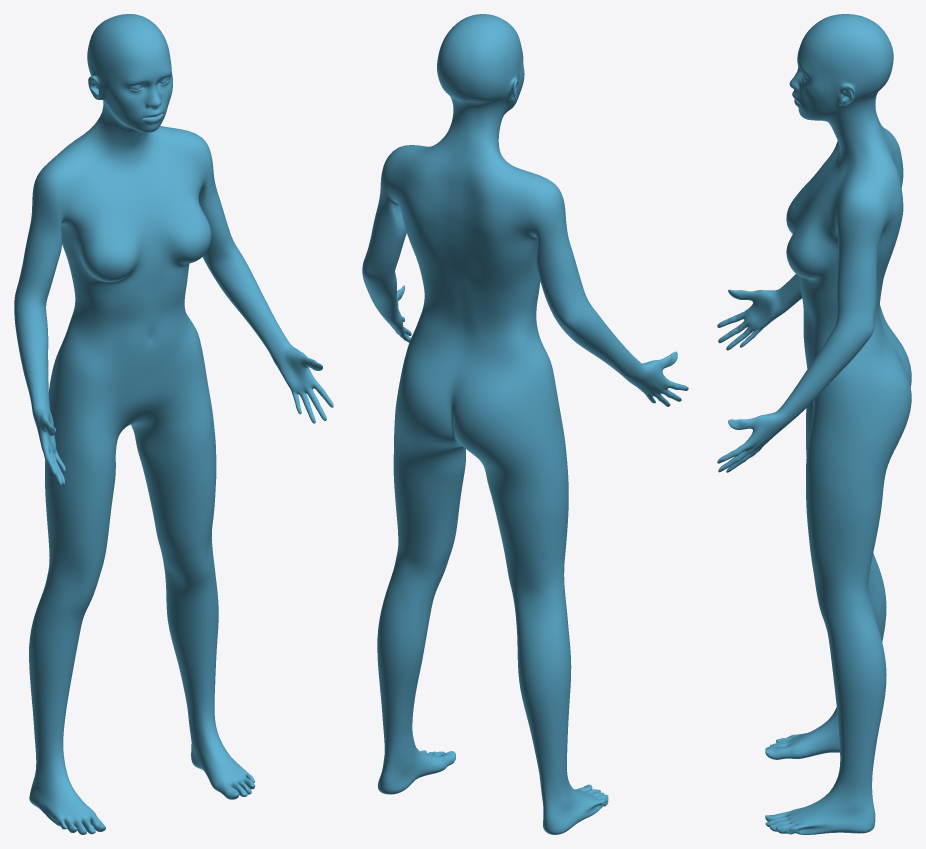
Rendered from female-web.glb.
3 renders of one model, left to right at view 1: azimuth 30°, elevation 25°; view 2: azimuth 150°, elevation 25°; view 3: azimuth 270°, elevation 25°, orthographic. The views are drawn at different scales.
Visible parts, largest first — view 1: Figur A; view 2: Figur A; view 3: Figur A.
Part boxes in pixels (x1,y1,x2,y2): Figur A: [14, 14, 333, 834]; Figur A: [362, 14, 688, 834]; Figur A: [717, 14, 911, 834].
Bounding box in the file's own units: 0.6459 × 1.7 × 0.3865.
